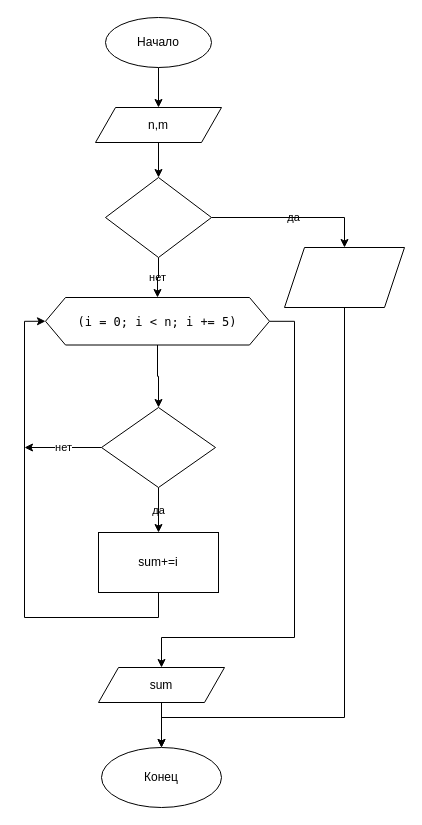
Some shapes in this 422 by 825 pixel diagram are drawn without their labels. The shapes that lost their labels are listed below. From the top down, each one's box as (x1, y1, x2, y2) in pixels, then its label:
(104, 176, 212, 258): m>=n
(284, 246, 404, 308): "Введены неправильные значния"
(100, 406, 216, 488): ( i % m != 0 )
